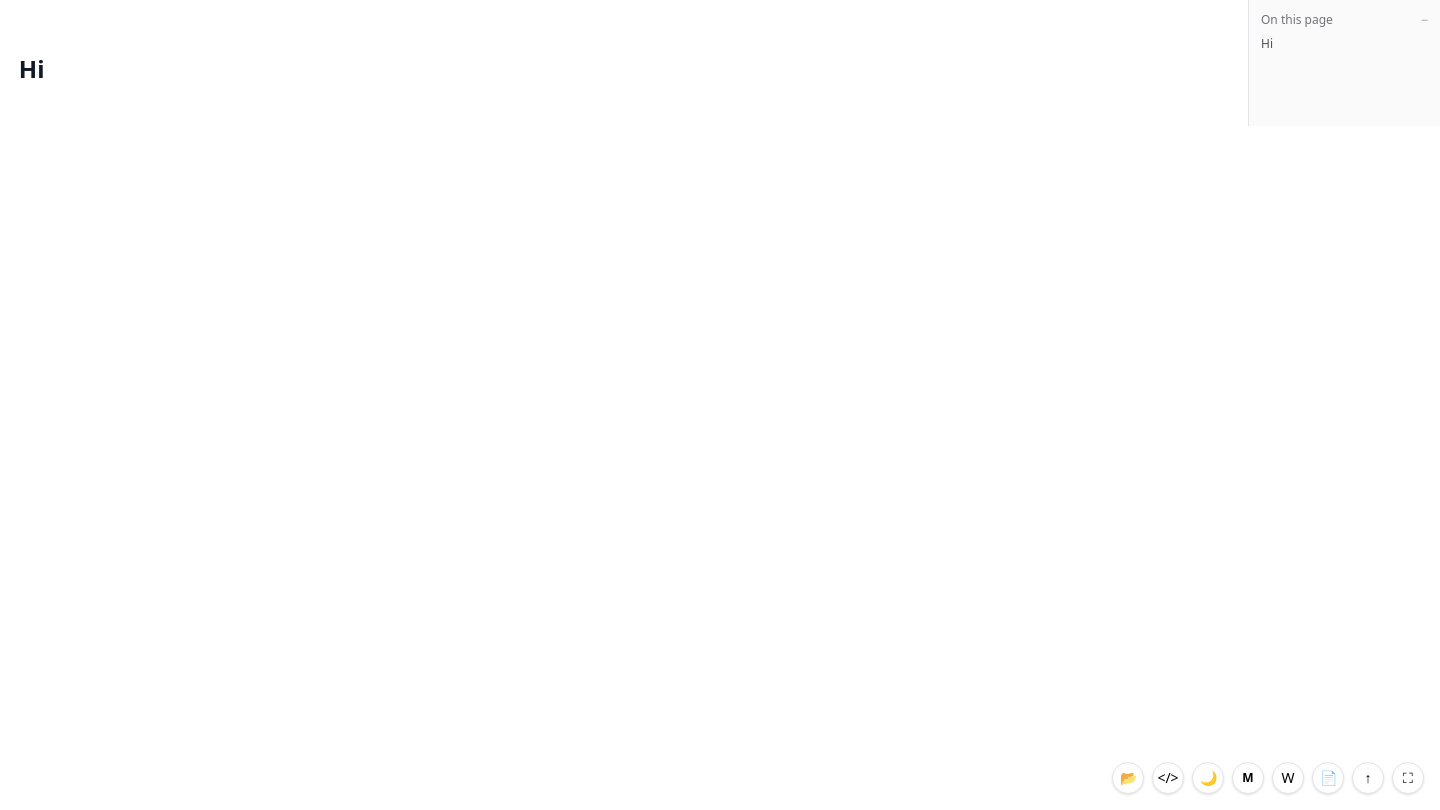
Test: MarkdownViewer › uncontrolled theme toggles internally
What coordinates should you click on to do the following:
click the button named "Toggle dark mode"
I would click on:
 (1208, 778)
Its box is [1192,762,1224,794].
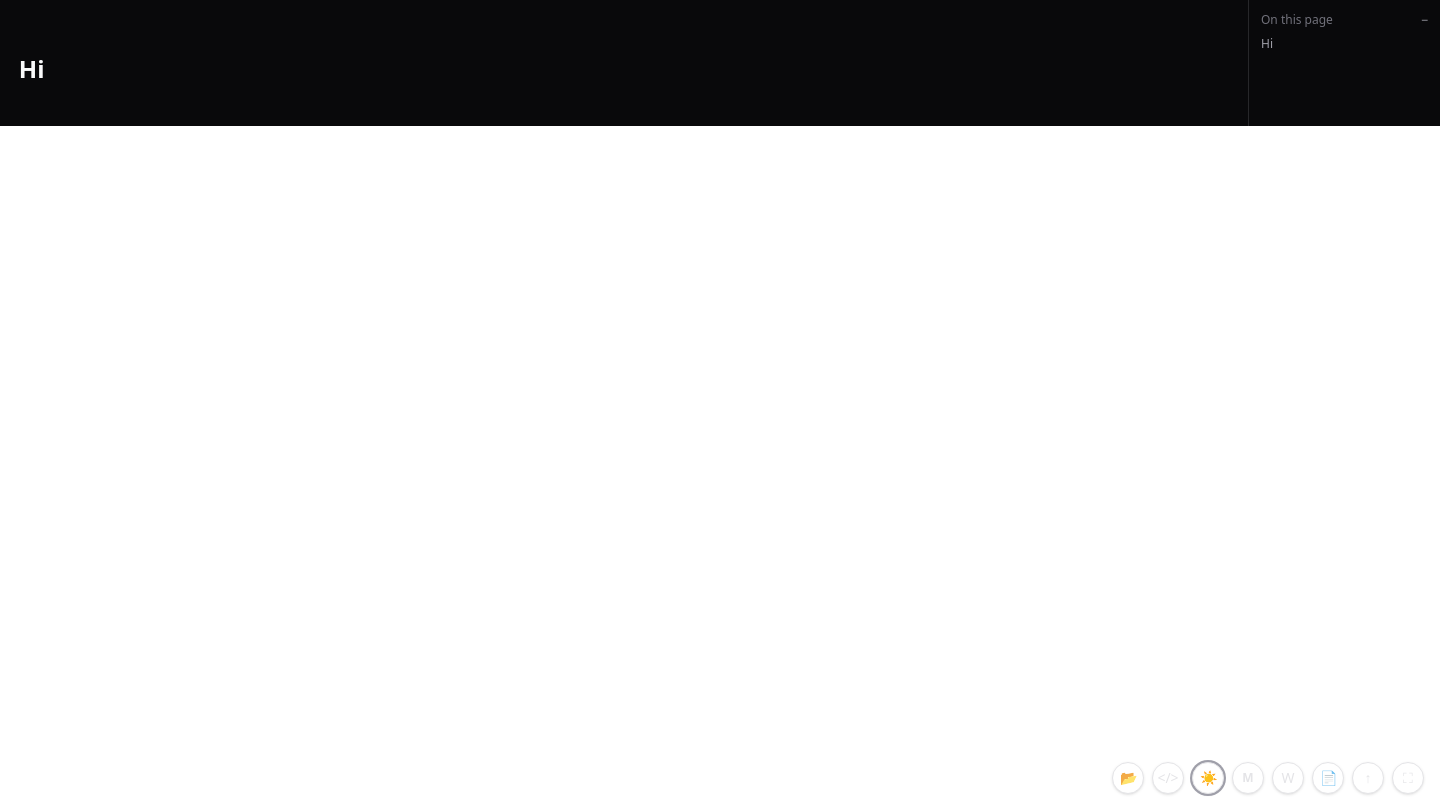
Check: the button named "Toggle dark mode" reads "☀️", box [1192,762,1224,794]
